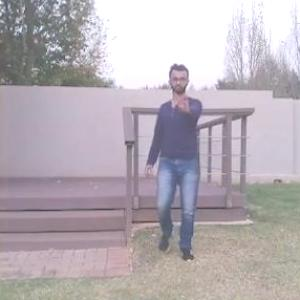takeoff-hand: (172, 83, 195, 114)
